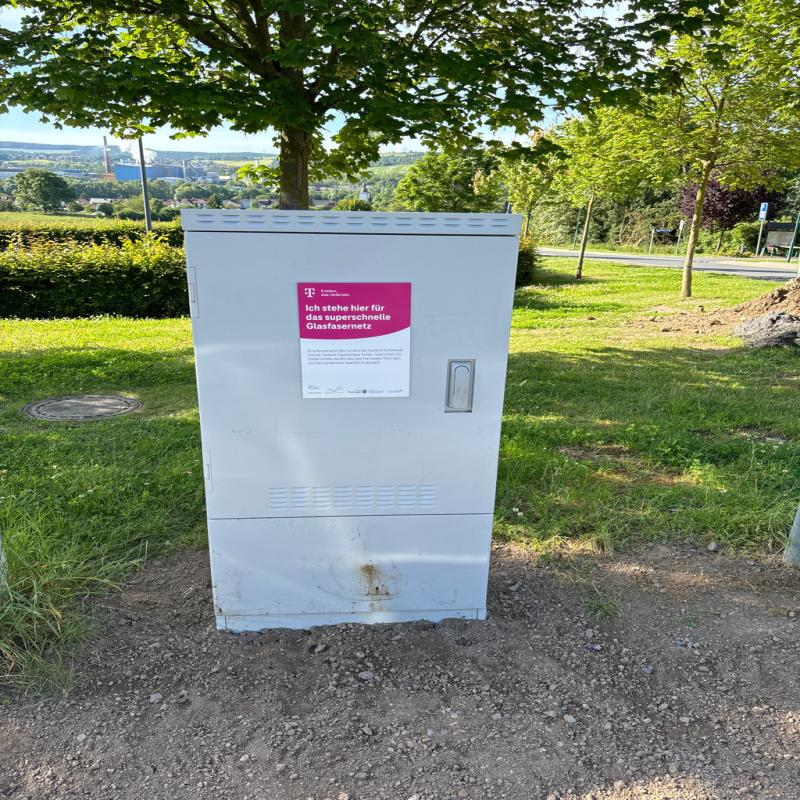NT-Gehause: (178, 208, 504, 626)
Steaker: (297, 278, 412, 399)
